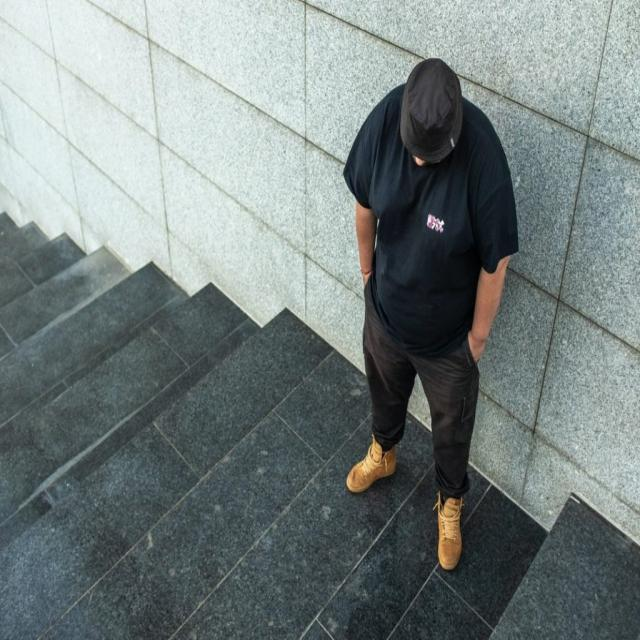direk: (339, 51, 507, 578)
